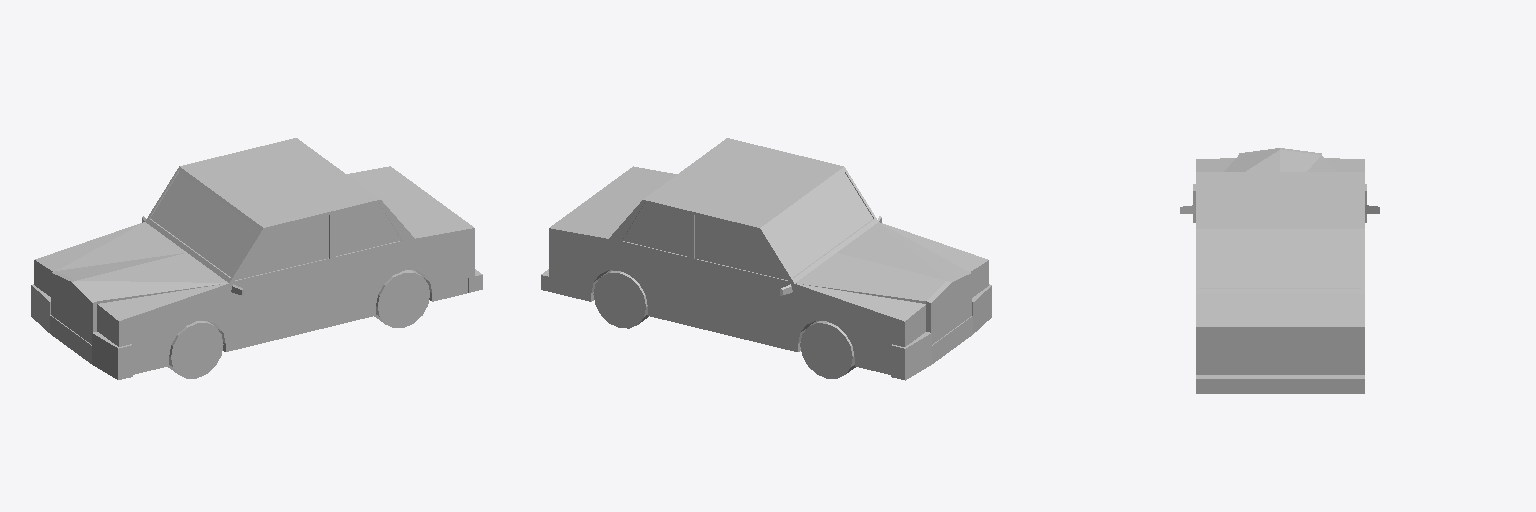
Rendered from car.obj.
3 renders of one model, left to right at view 1: azimuth 30°, elevation 25°; view 2: azimuth 150°, elevation 25°; view 3: azimuth 270°, elevation 25°, orthographic.
Parts seen in each view (by area): view 1: Body, Wheel_FL, Wheel_RL; view 2: Body, Wheel_FR, Wheel_RR; view 3: Body.
Boxes of the visible parts, <box> form: Body: <box>31,138,482,379</box>; Wheel_FL: <box>168,321,223,378</box>; Wheel_RL: <box>374,270,429,327</box>; Body: <box>541,138,991,380</box>; Wheel_FR: <box>800,321,855,378</box>; Wheel_RR: <box>593,270,648,328</box>; Body: <box>1180,148,1379,393</box>.
Bounding box in the file's own units: 249 × 86.43 × 116.